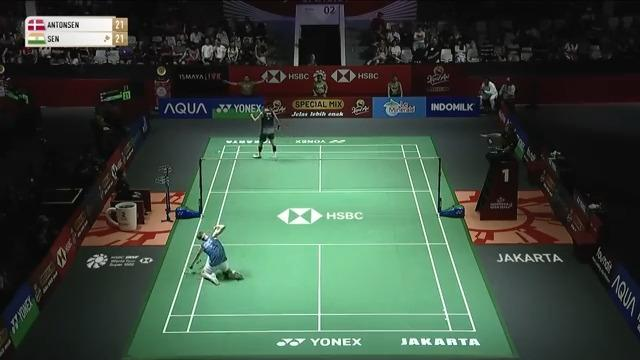Shuttlecock: (213, 144, 225, 156)
